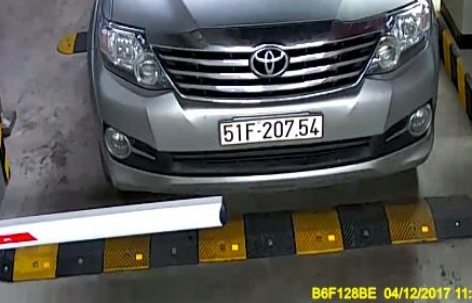plate: (214, 112, 329, 142)
